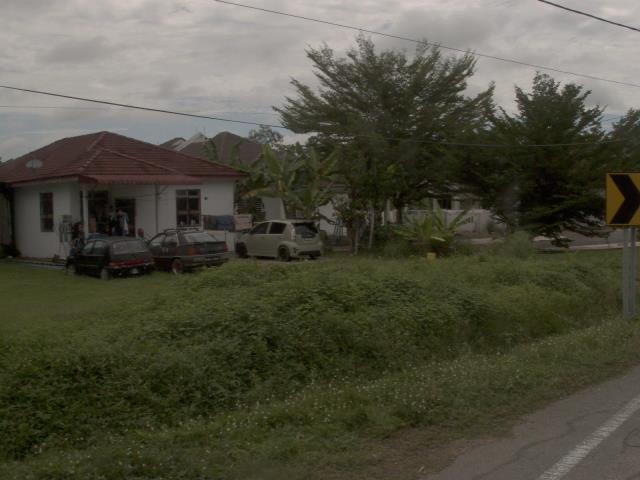traffic_sign: (592, 162, 640, 238)
